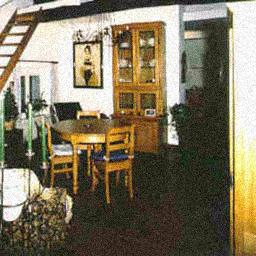Armario: (112, 23, 161, 121)
Matera: (166, 99, 194, 152)
Puerta: (229, 9, 253, 252)
